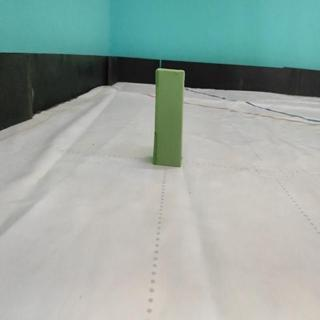greenbox: (152, 67, 185, 169)
